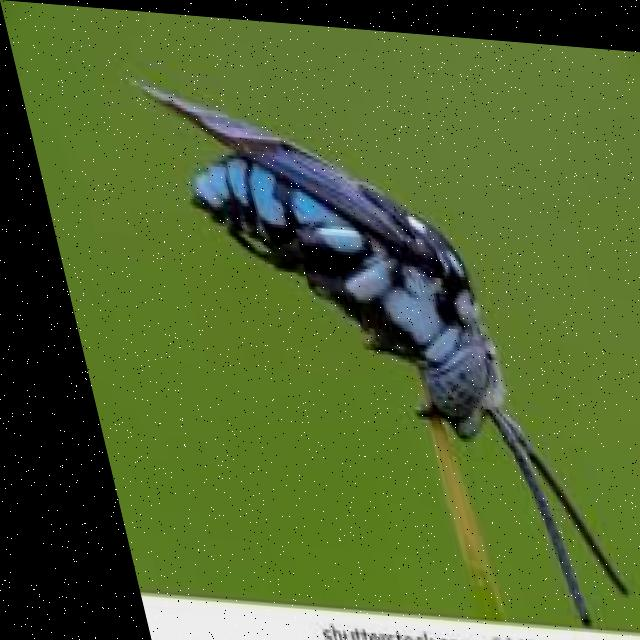Thyreus: (126, 64, 620, 609)
